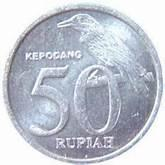coin_50_1999: (2, 3, 162, 165)
